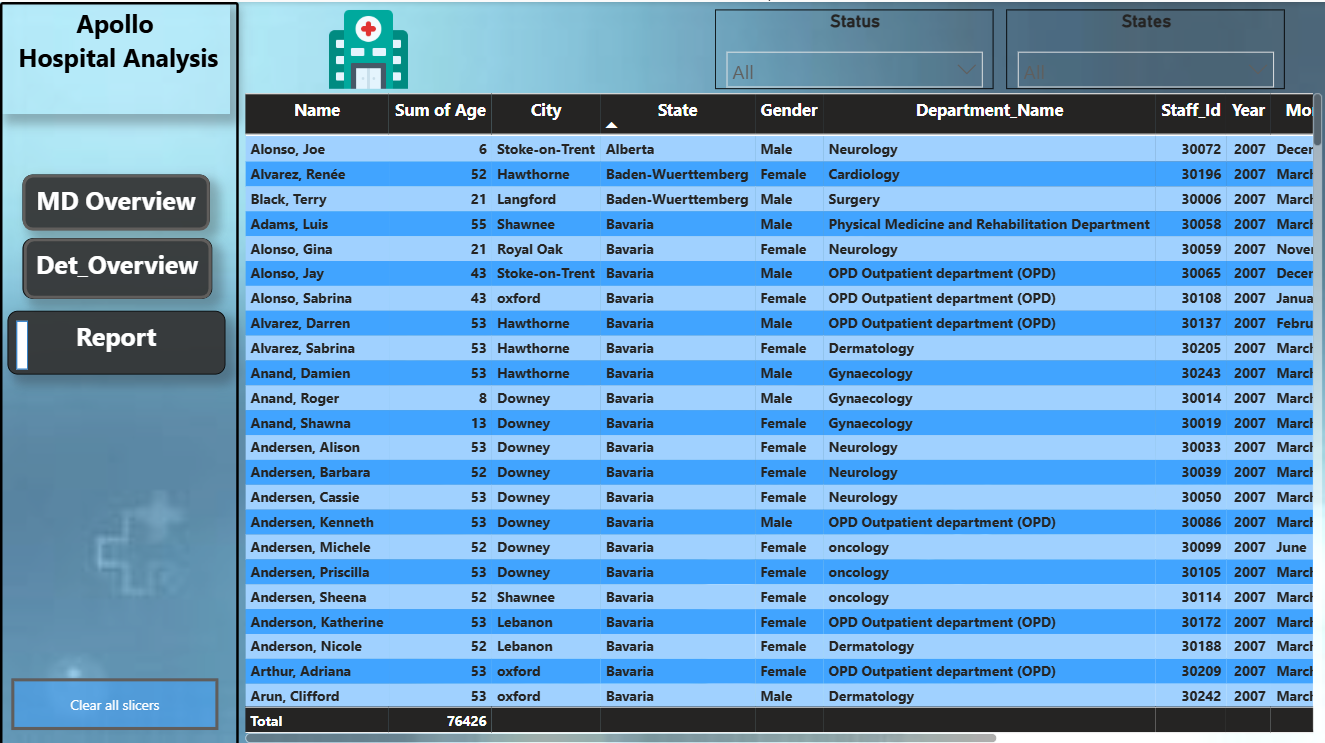

Layout of this report page (visuals, bound fields, positions):
{"tool":"powerbi","page":{"name":"Report","canvas":[1280,720],"ordinal":2},"visuals":[{"type":"textbox","box":[0,0,221.8,108.1],"z":7000},{"type":"textbox","box":[22.3,167,180.9,52.9],"z":8000},{"type":"textbox","box":[21.4,228.6,182.9,58.6],"z":9000},{"type":"textbox","box":[7.1,298.6,210,61.4],"z":16000},{"type":"actionButton","box":[11.4,652.9,200,50],"z":17000},{"type":"actionButton","box":[22.3,167,180.9,54.3],"z":23000},{"type":"textbox","box":[0,0,230.2,720],"z":24000},{"type":"tableEx","fields":{"Values":["Detail data dataset.Name","Sum(Detail data dataset.Age)","Detail data dataset.City","Detail data dataset.State","Detail data dataset.Gender","Department.Department_Name","Staff_Detail.Staff_Id","Detail data dataset.Date.Variation.Date Hierarchy.Year","Detail data dataset.Date.Variation.Date Hierarchy.Month","Detail data dataset.Date.Variation.Date Hierarchy.Day","Detail data dataset.Status","Detail data dataset.Patient type"]},"box":[229.8,83.8,1050.4,636.8],"z":24001},{"type":"shape","box":[15.7,307.1,11.4,47.1],"z":24002},{"type":"actionButton","box":[22.9,228.6,181.4,58.6],"z":24003},{"type":"slicer","title":"Status","fields":{"Values":["Detail data dataset.Status"]},"box":[689.5,6.8,269,77.1],"z":24004},{"type":"slicer","title":"States","fields":{"Values":["Detail data dataset.State"]},"box":[970.7,6.8,269,76.9],"z":24005},{"type":"image","box":[229.8,4.1,250.1,83.8],"z":24006}]}

Visuals, with their boxes in screenshot pixels (x1, y1, x2, y2), scaled from the page's 1280x720 canvas onto the 1325x743 screenshot:
textbox: (left=0, top=0, right=230, bottom=112)
textbox: (left=23, top=172, right=210, bottom=227)
textbox: (left=22, top=236, right=211, bottom=296)
textbox: (left=7, top=308, right=225, bottom=372)
actionButton: (left=12, top=674, right=219, bottom=725)
actionButton: (left=23, top=172, right=210, bottom=228)
textbox: (left=0, top=0, right=238, bottom=742)
tableEx - Detail data dataset.Name x Sum(Detail data dataset.Age): (left=238, top=86, right=1324, bottom=742)
shape: (left=16, top=317, right=28, bottom=366)
actionButton: (left=24, top=236, right=211, bottom=296)
"Status" slicer: (left=714, top=7, right=992, bottom=87)
"States" slicer: (left=1005, top=7, right=1283, bottom=86)
image: (left=238, top=4, right=497, bottom=91)
